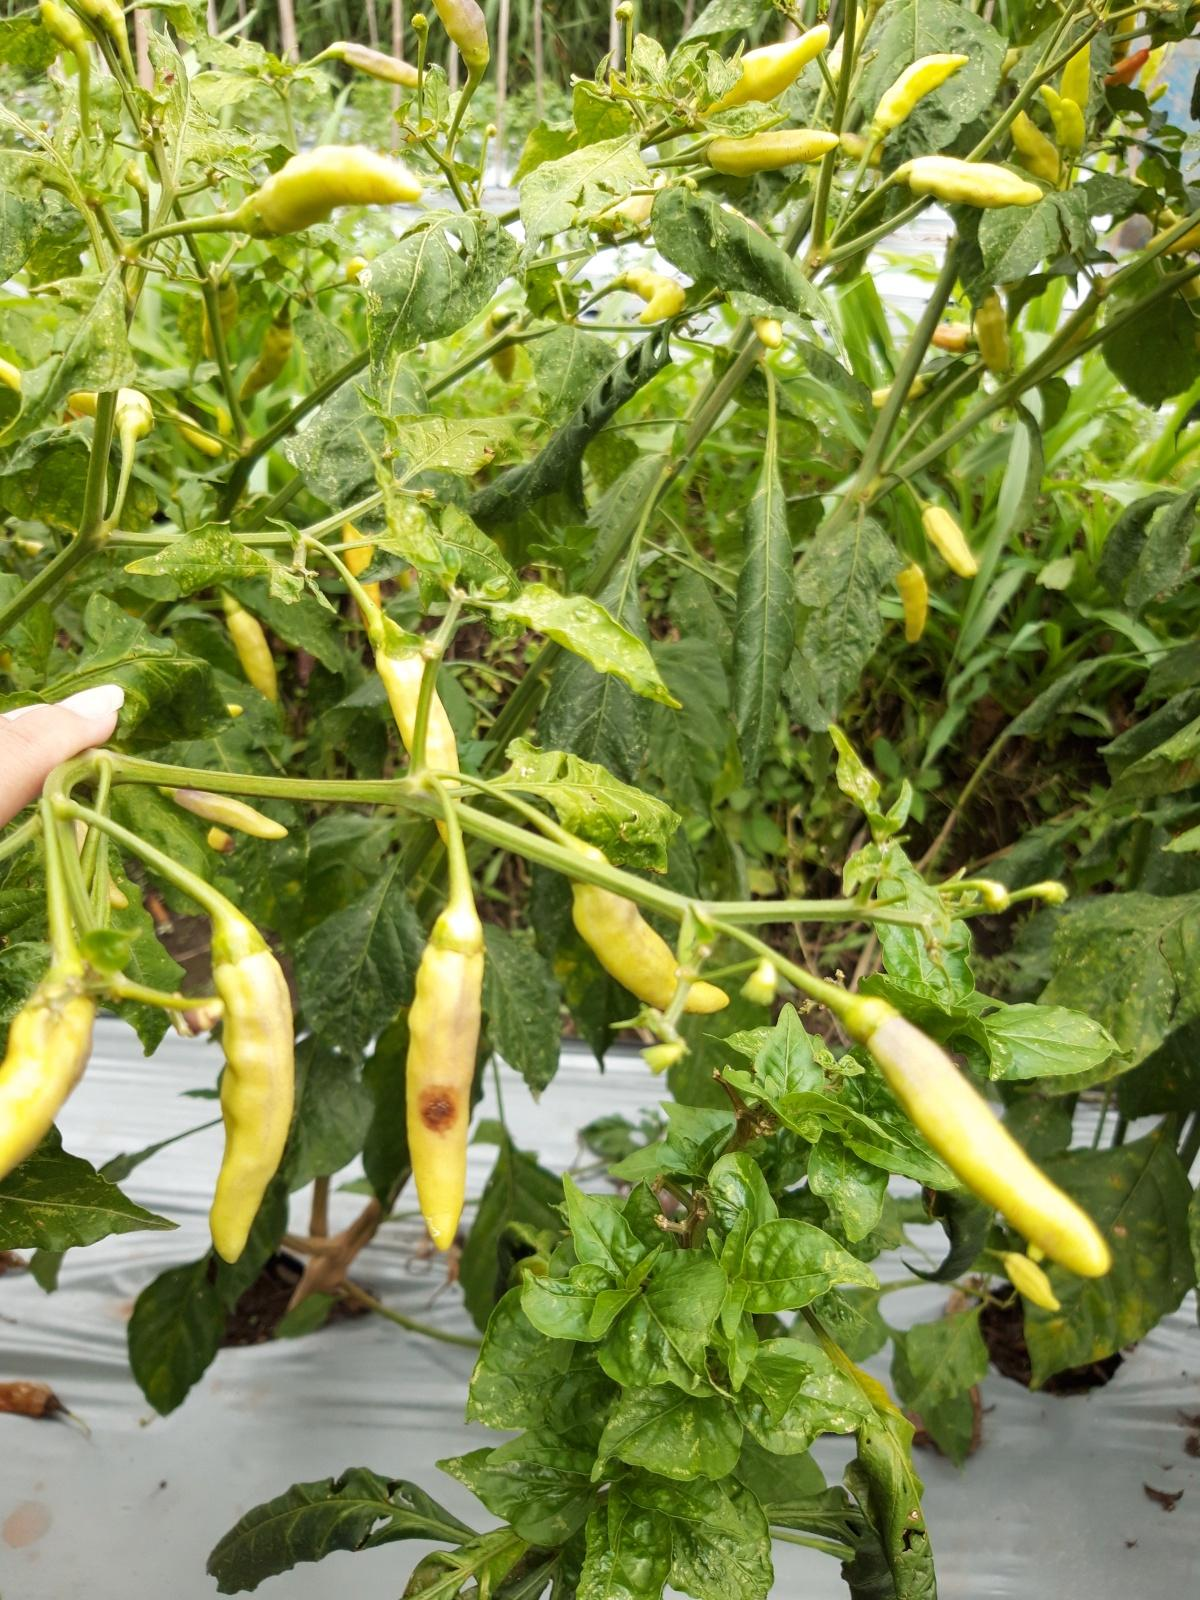cabai_normal: (838, 993, 1111, 1278), (207, 921, 294, 1262), (569, 840, 731, 1014), (369, 625, 461, 846), (1, 980, 95, 1177), (238, 145, 420, 242), (685, 25, 830, 133), (868, 55, 969, 142), (892, 155, 1044, 208), (701, 130, 842, 175), (169, 787, 289, 839), (223, 597, 278, 704), (1010, 111, 1073, 190), (920, 503, 977, 580), (432, 1, 490, 75), (338, 43, 432, 87), (614, 265, 682, 322), (1040, 84, 1088, 155), (894, 558, 927, 643)
lalat_buah: (405, 911, 486, 1249)
